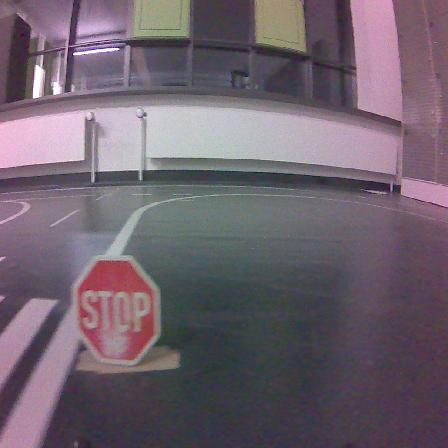STOP: (72, 256, 160, 365)
